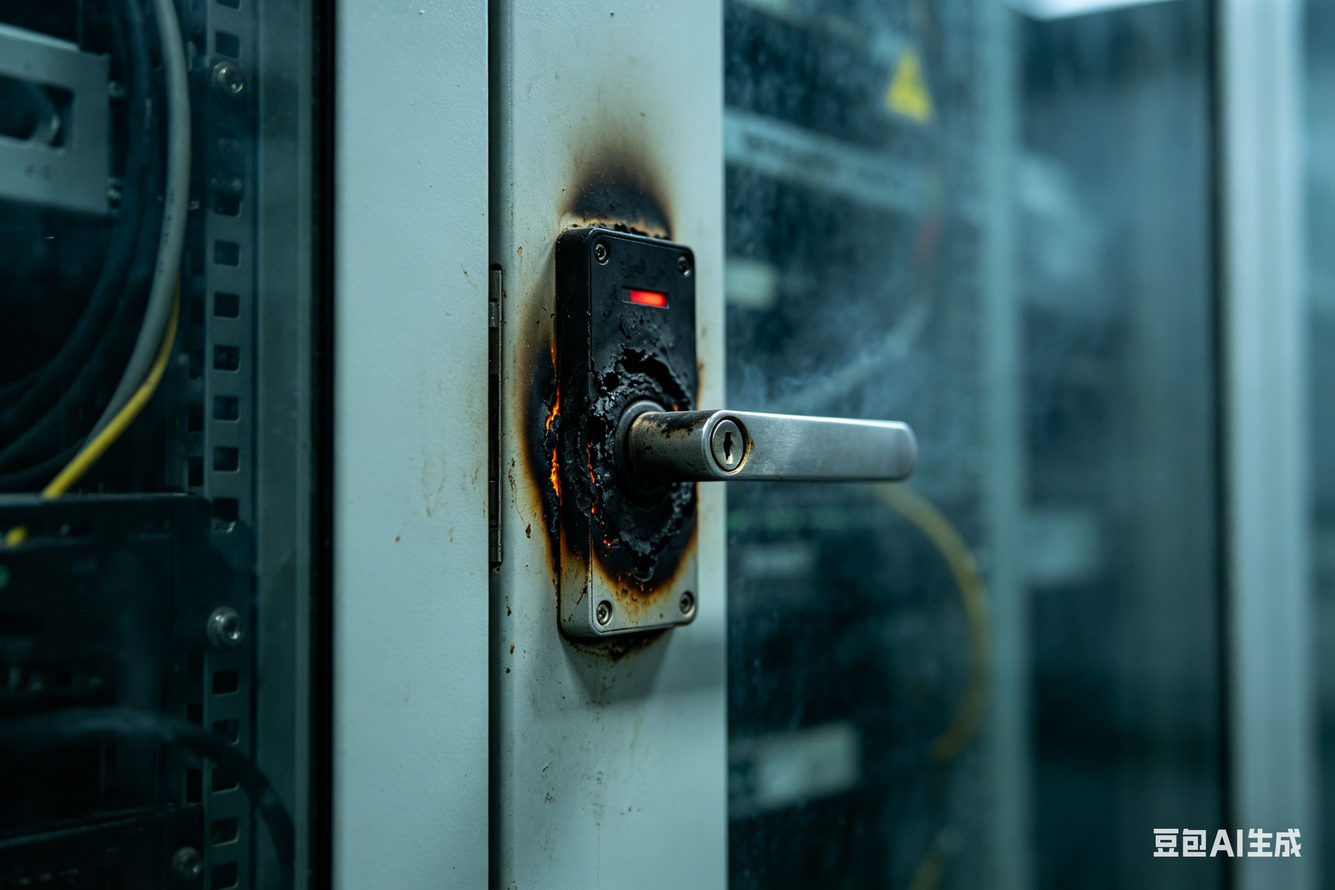BadLock: (566, 348, 705, 589)
